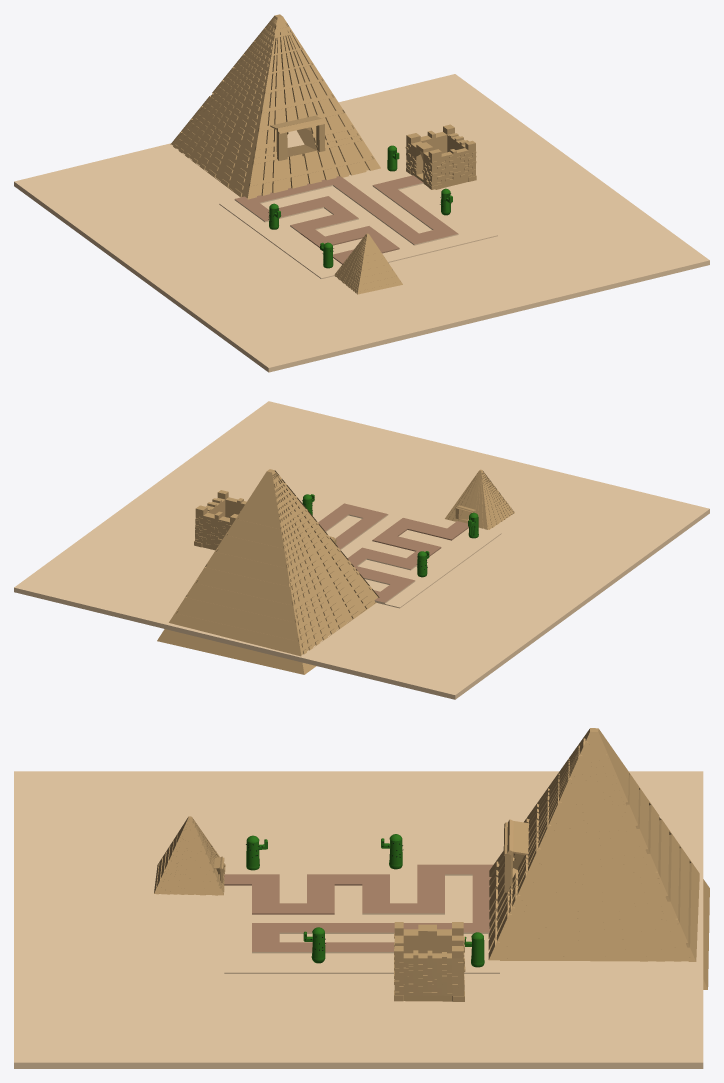
Rendered from mapa_starověk.fbx.
The picture shows the model from 3 angles, top to bottom: view 1: azimuth 30°, elevation 25°; view 2: azimuth 150°, elevation 25°; view 3: azimuth 270°, elevation 25°; orthographic projection. The views are drawn at different scales.
Parts seen in each view (by area): view 1: Cube.001, Suzanne, Cube, Cube.002, Cube.003; view 2: Cube.001, Suzanne, Cube, Cube.003, Cube.002; view 3: Cube.001, Suzanne, Cube, Cube.002, Cube.003, Sphere.002.
Part boxes in pixels (x1,y1,x2,y2): Cube.001: [14, 74, 709, 372]; Suzanne: [170, 14, 380, 199]; Cube: [219, 162, 497, 278]; Cube.002: [405, 124, 476, 189]; Cube.003: [334, 233, 402, 294]; Cube.001: [14, 401, 709, 699]; Suzanne: [157, 469, 379, 674]; Cube: [312, 490, 501, 608]; Cube.003: [445, 469, 514, 529]; Cube.002: [194, 490, 246, 550]; Cube.001: [14, 771, 703, 1068]; Suzanne: [488, 728, 709, 989]; Cube: [224, 856, 499, 973]; Cube.002: [394, 922, 465, 1001]; Cube.003: [154, 816, 225, 895]; Sphere.002: [303, 927, 325, 963].
Size of the model in its own units: 10000 by 3403 by 10099.
